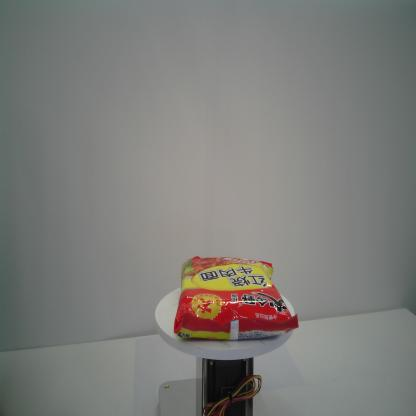Instant Noodles: (173, 254, 300, 341)
